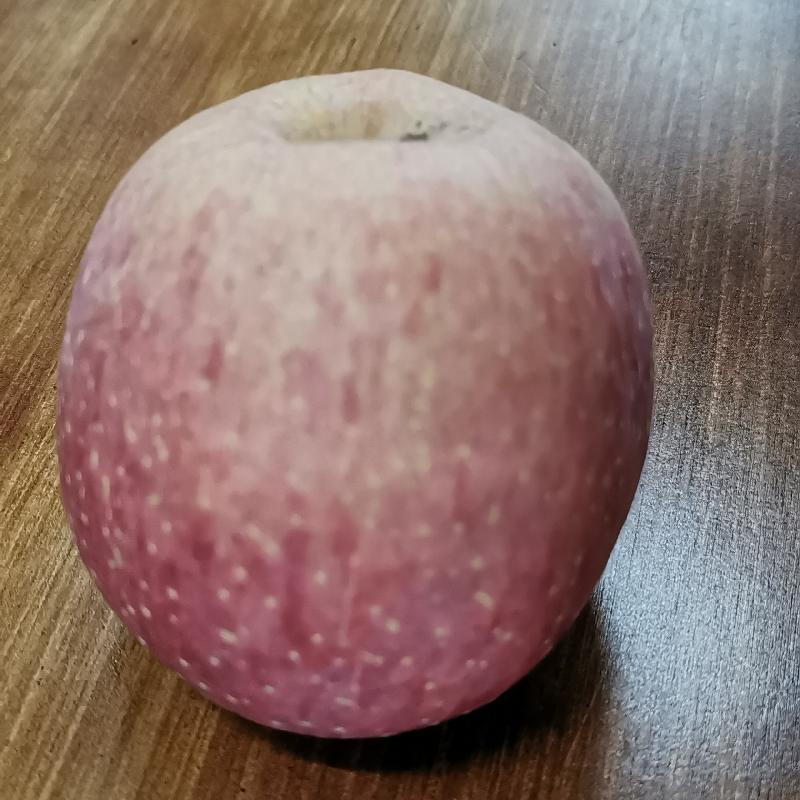apples: (50, 62, 659, 741)
